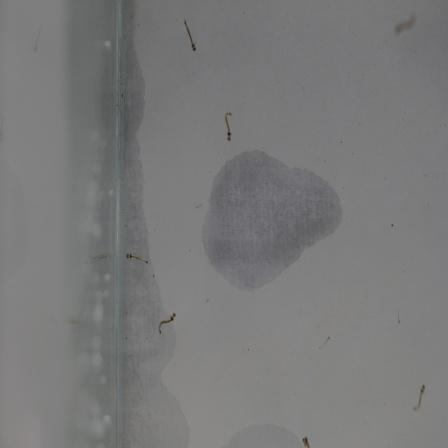Jentik-Nyamuk: (123, 243, 155, 271), (154, 308, 181, 339), (220, 106, 239, 148), (179, 19, 202, 52)
